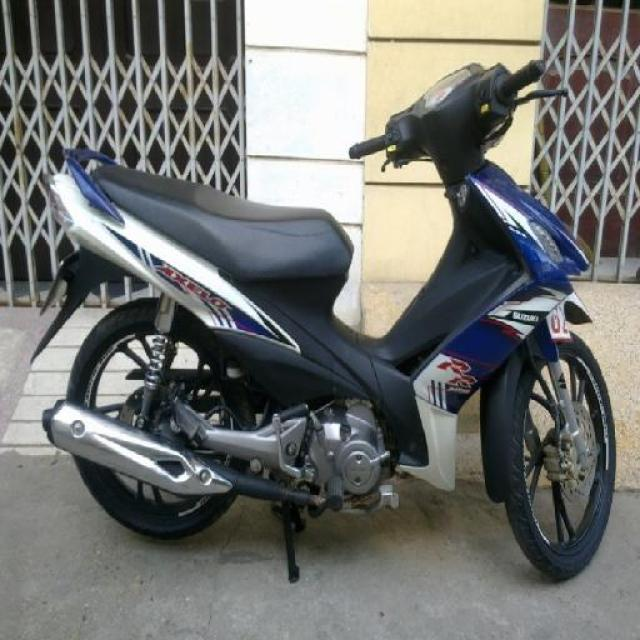All: (23, 42, 619, 580)
Head: (347, 58, 574, 172)
Tail: (38, 140, 128, 253)
